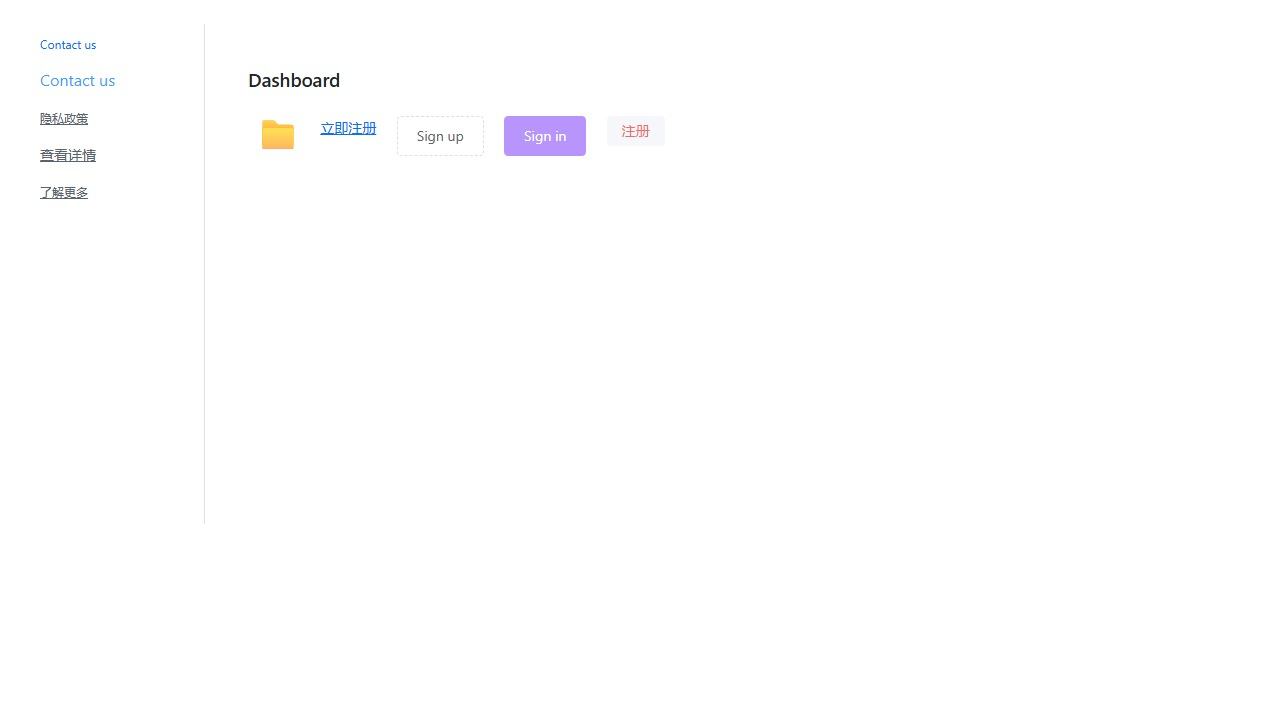button: (397, 116, 484, 156), (504, 116, 586, 156), (607, 116, 665, 146)
icon: (256, 116, 300, 148)
link: (40, 69, 115, 90), (40, 145, 96, 164), (320, 118, 376, 137), (40, 36, 96, 52), (40, 110, 88, 126), (40, 184, 88, 200)
